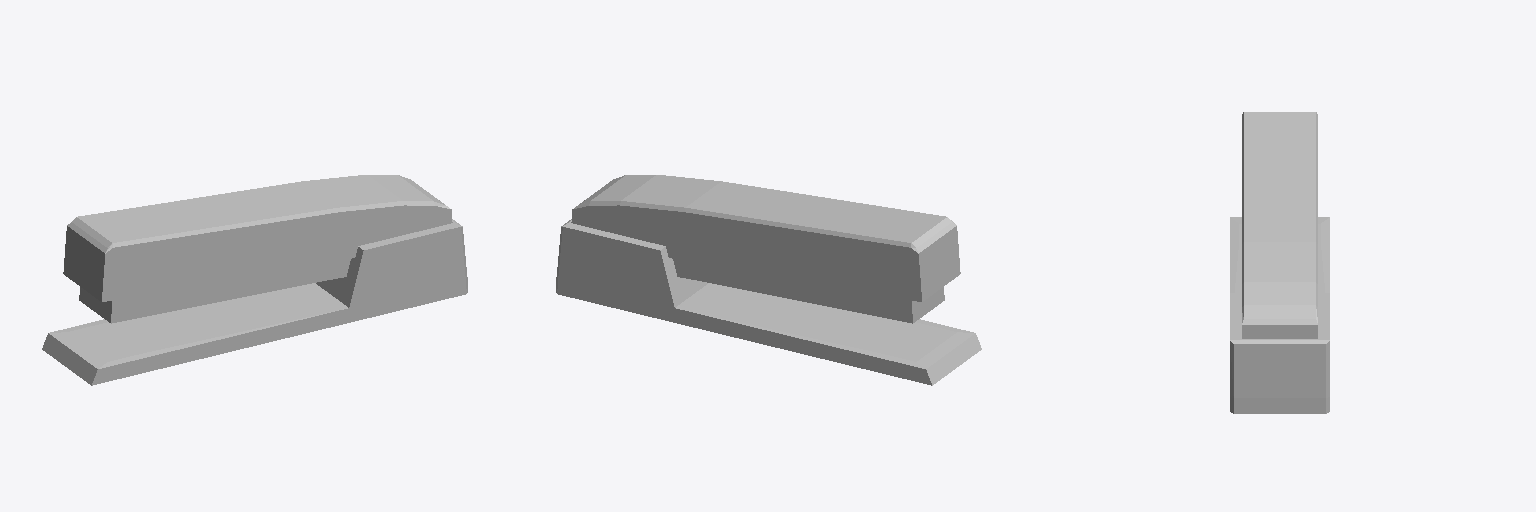
Rendered from stapler.obj.
3 renders of one model, left to right at view 1: azimuth 30°, elevation 25°; view 2: azimuth 150°, elevation 25°; view 3: azimuth 270°, elevation 25°, orthographic.
Visible parts, largest first — view 1: Cube.001; view 2: Cube.001; view 3: Cube.001.
Part boxes in pixels (x1,y1,x2,y2): Cube.001: (42, 175, 467, 385); Cube.001: (556, 175, 981, 385); Cube.001: (1230, 112, 1329, 413).
Size of the model in its own units: 21.41 by 7.07 by 4.87.